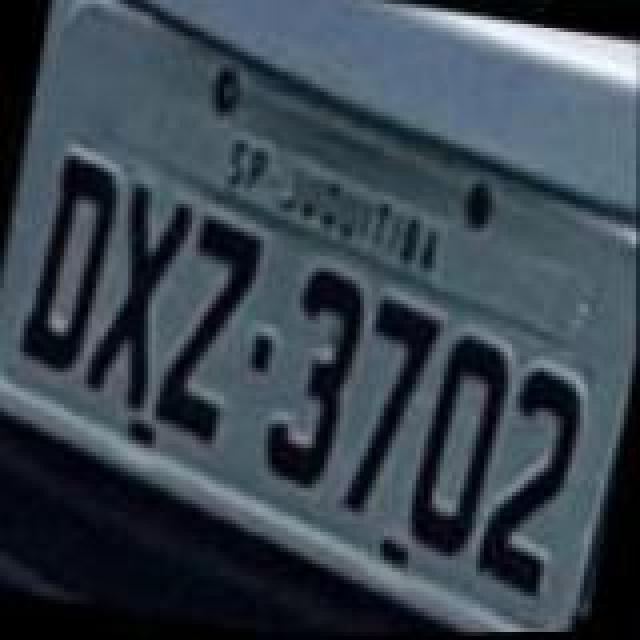2: (472, 366, 592, 606)
3: (258, 264, 374, 496)
7: (338, 294, 446, 526)
D: (14, 154, 126, 382)
O: (402, 326, 518, 562)
X: (78, 178, 198, 418)
Z: (146, 212, 266, 452)
